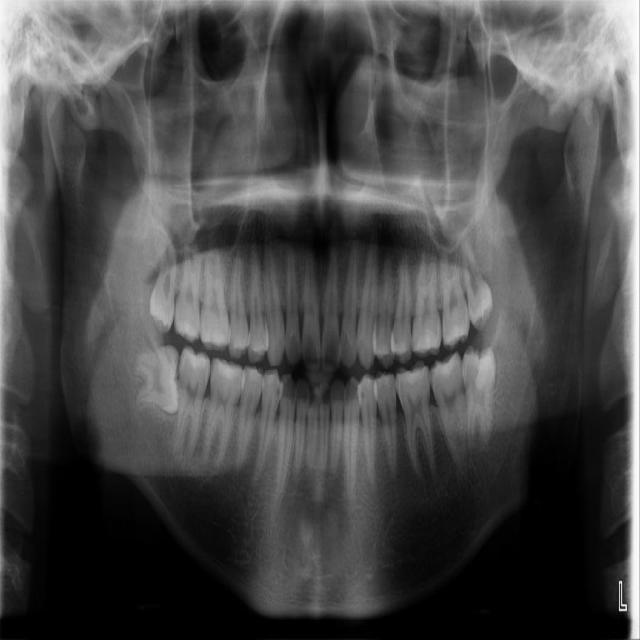impacted tooth: (121, 347, 180, 413), (464, 347, 497, 456)
